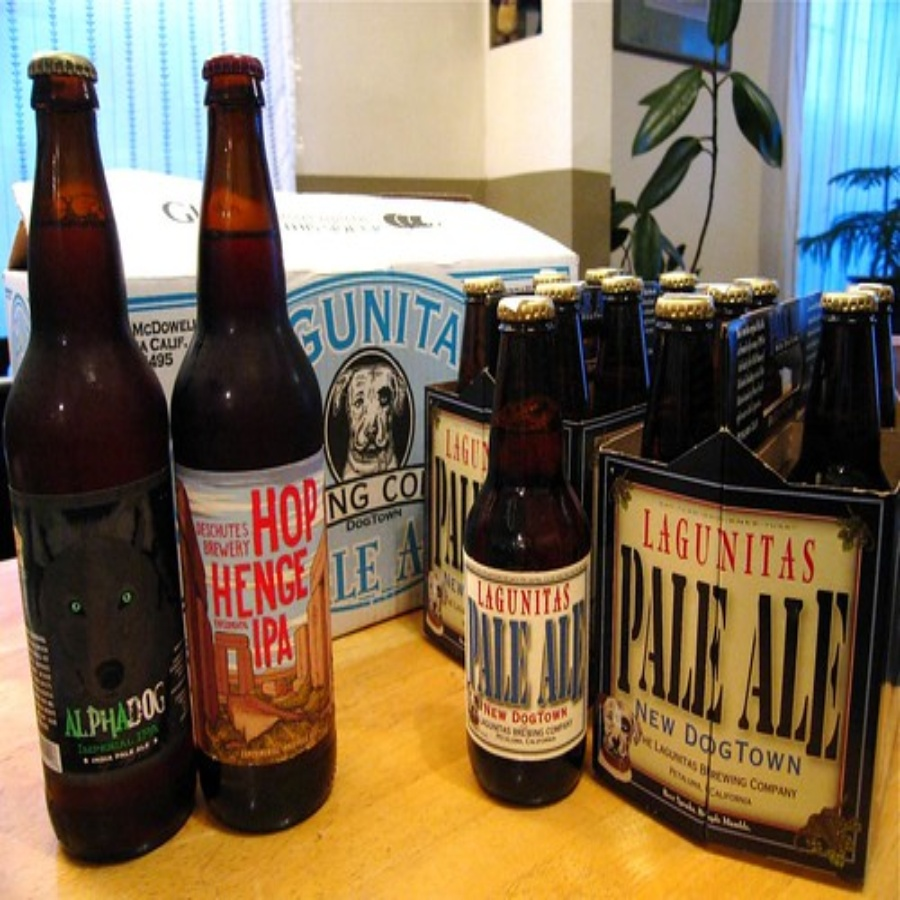beer: (171, 47, 331, 832), (463, 291, 590, 814)
